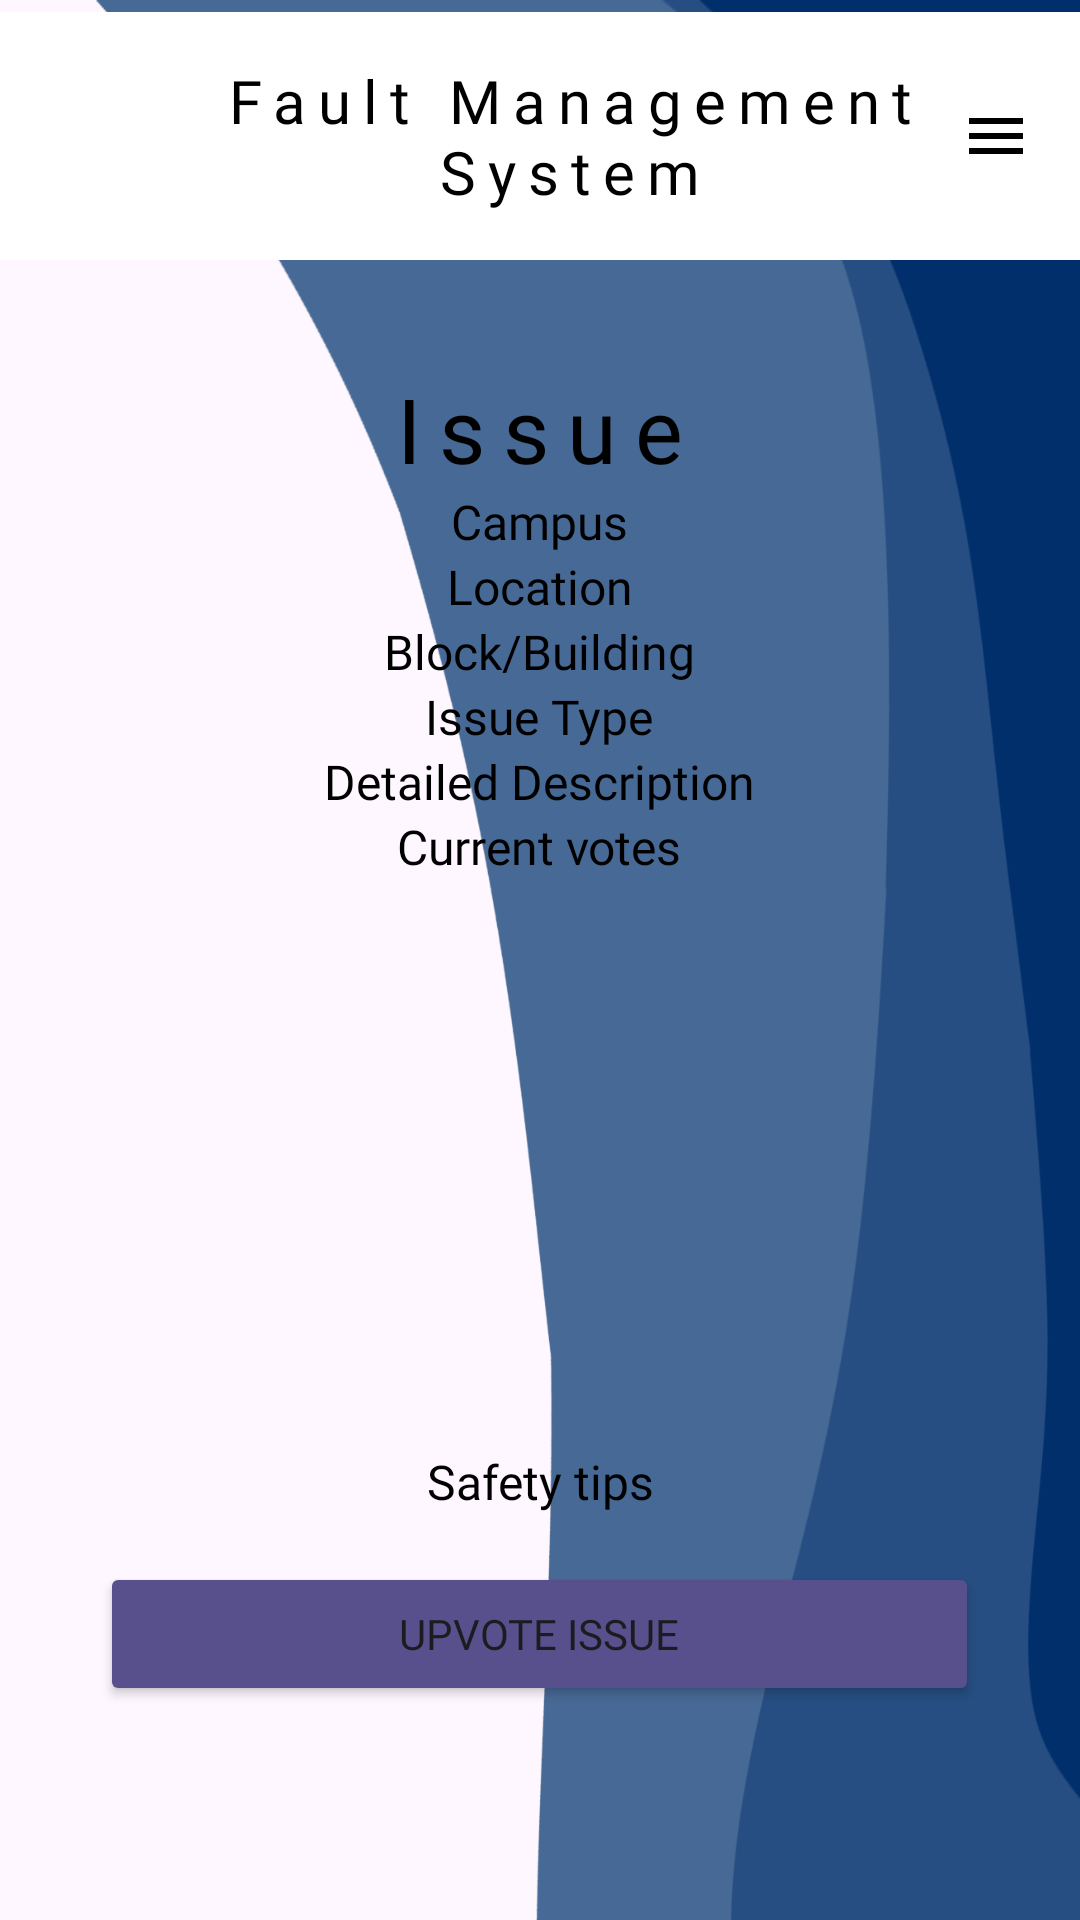

Where icons sit on this 1080*1920 app screen, as (x1, y1, x2, y2):
menu: (969, 118, 1023, 154)
